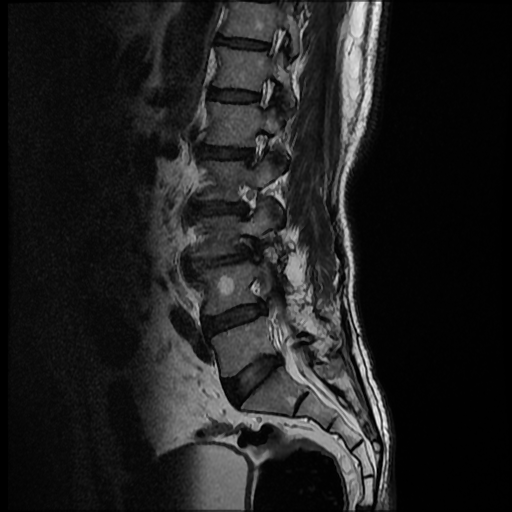LFS0: (228, 175, 269, 223), (240, 124, 279, 174)
LFS3: (226, 228, 267, 271)
